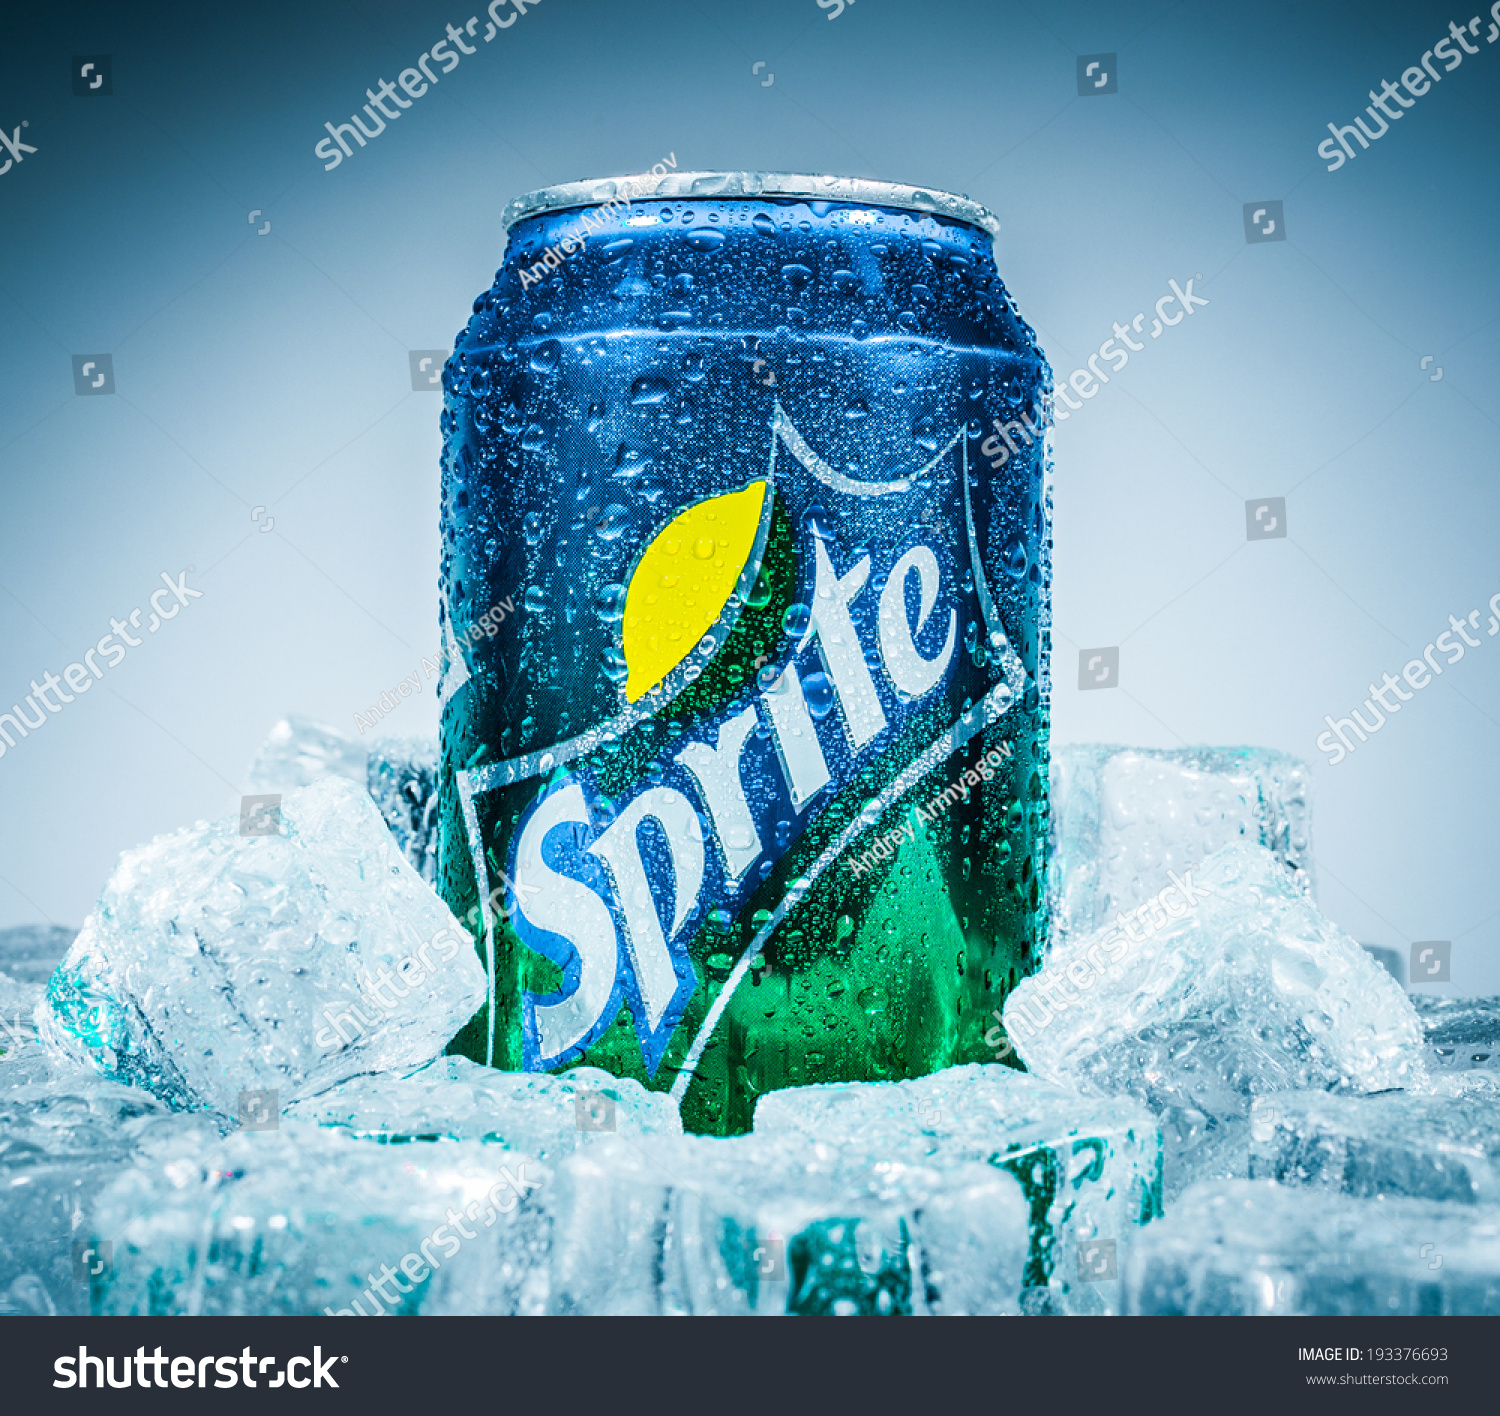sprite: (512, 512, 954, 1055)
